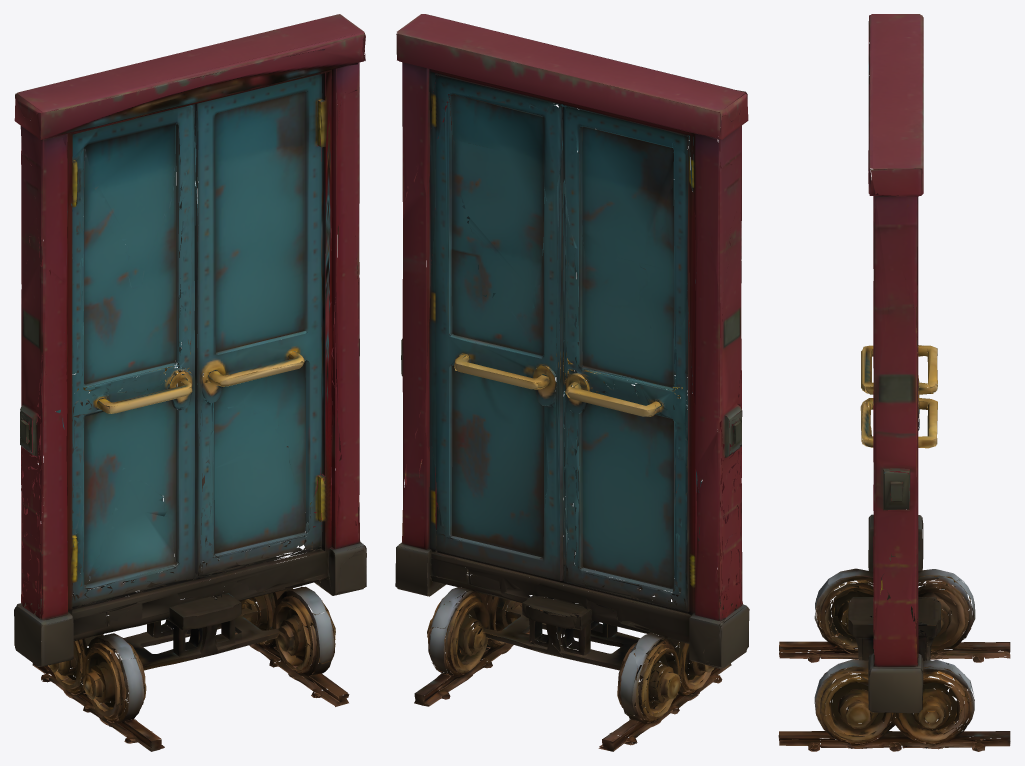
File: env-single-train-door.glb
3 views of the same model, side by side, from view 1: azimuth 30°, elevation 25°; view 2: azimuth 150°, elevation 25°; view 3: azimuth 270°, elevation 25° (orthographic). The views are drawn at different scales.
Visible parts, largest first — view 1: env-single-train-door; view 2: env-single-train-door; view 3: env-single-train-door.
Boxes of the visible parts, x1,y1,x2,y2 form: env-single-train-door: (14, 14, 366, 751); env-single-train-door: (395, 14, 749, 751); env-single-train-door: (778, 14, 1010, 751).
Size of the model in its own units: 1.46 by 2.6 by 0.8965.
1 material, 1 textured.
